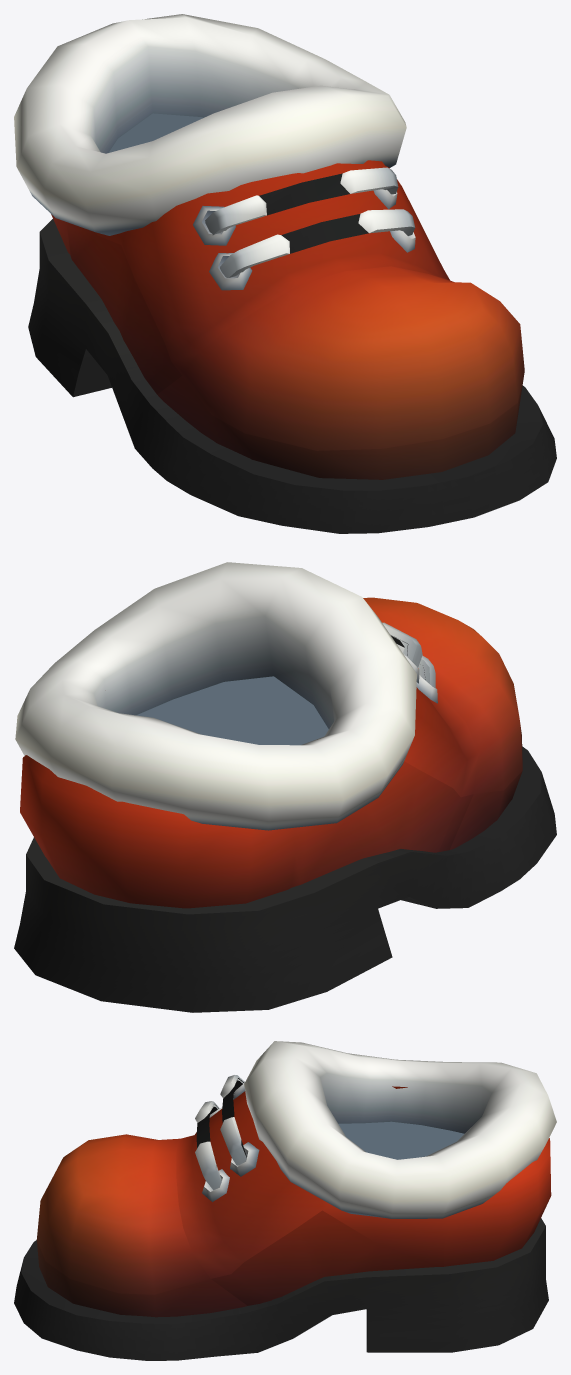
Rendered from Shoes_NY_01_R.gltf.
3 views of the same model, one above another, from view 1: azimuth 30°, elevation 25°; view 2: azimuth 150°, elevation 25°; view 3: azimuth 270°, elevation 25° (orthographic). The views are drawn at different scales.
Visible parts, largest first — view 1: Shoes_NY_01_R; view 2: Shoes_NY_01_R; view 3: Shoes_NY_01_R.
Boxes of the visible parts, bbox=[...] form: Shoes_NY_01_R: bbox=[14, 14, 556, 533]; Shoes_NY_01_R: bbox=[14, 562, 556, 1012]; Shoes_NY_01_R: bbox=[14, 1041, 556, 1360].
Bounding box in the file's own units: 0.3256 × 0.2723 × 0.5657.
2 materials, 2 textured.
